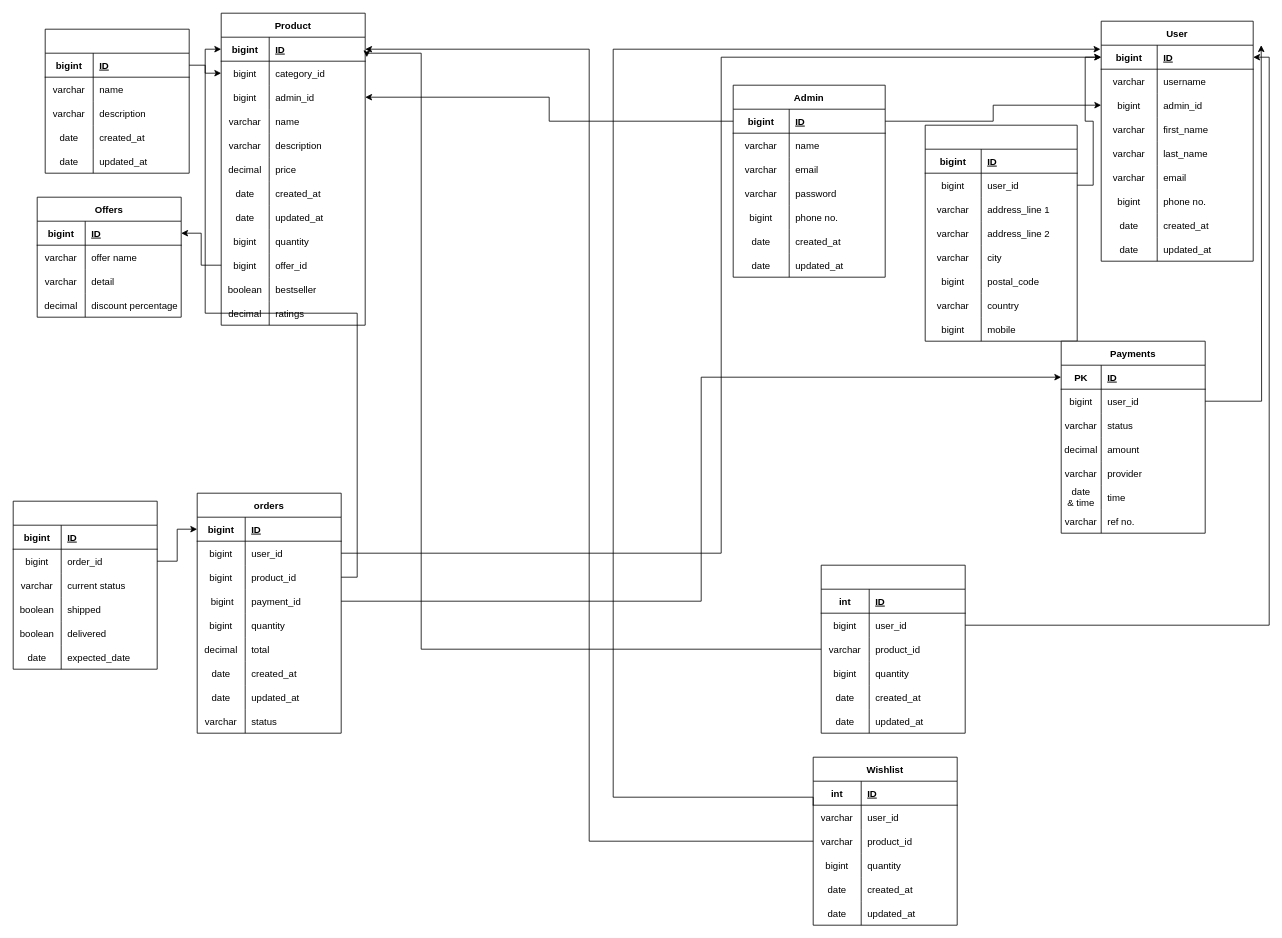
This 1282x938 diagram has some shape labels left out. The box of each missing label's shape, as (x1, y1, x2, y2) in pixels:
Cart: (820, 564, 965, 733)
Product_category: (44, 28, 189, 173)
Track Order: (12, 500, 157, 669)
User_address: (924, 124, 1077, 341)
